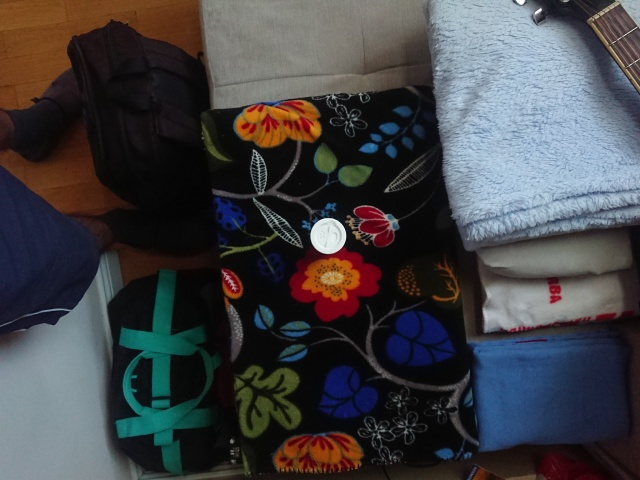Solana Pag Fine Sea Salt 250g: (307, 215, 349, 257)
